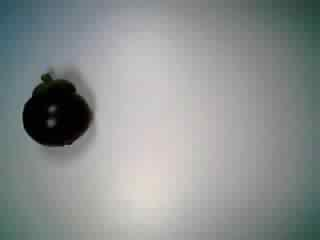mangosteen: (17, 71, 93, 150)
